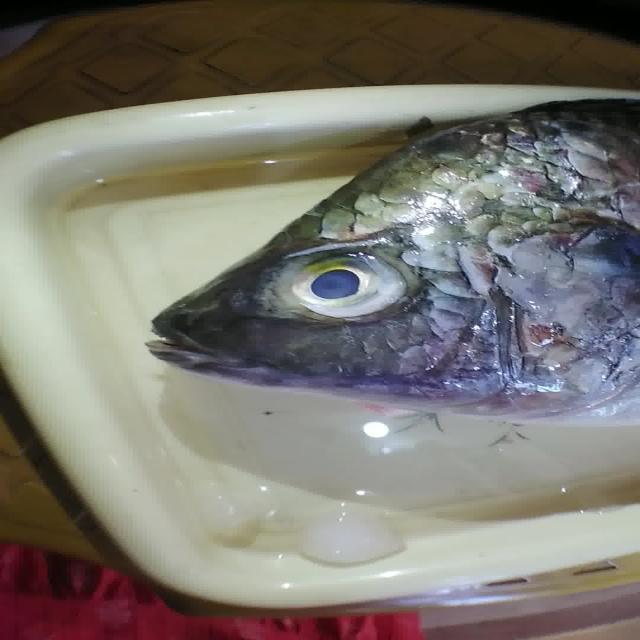Fresh: (288, 238, 427, 331)
